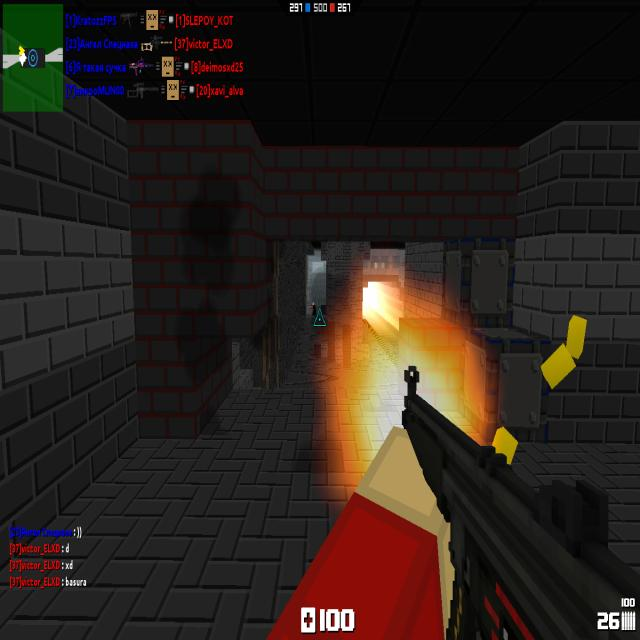enemy: (310, 300, 316, 317), (323, 261, 327, 273)
